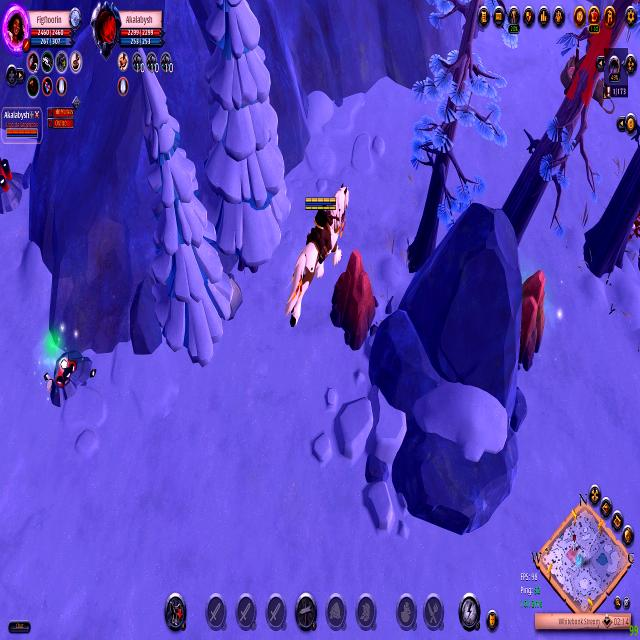hide: (629, 205, 640, 247)
ore: (565, 9, 617, 113)
player: (0, 153, 28, 216)
red: (284, 178, 352, 332), (0, 103, 46, 145)
tree: (328, 247, 380, 350), (512, 263, 548, 374)
